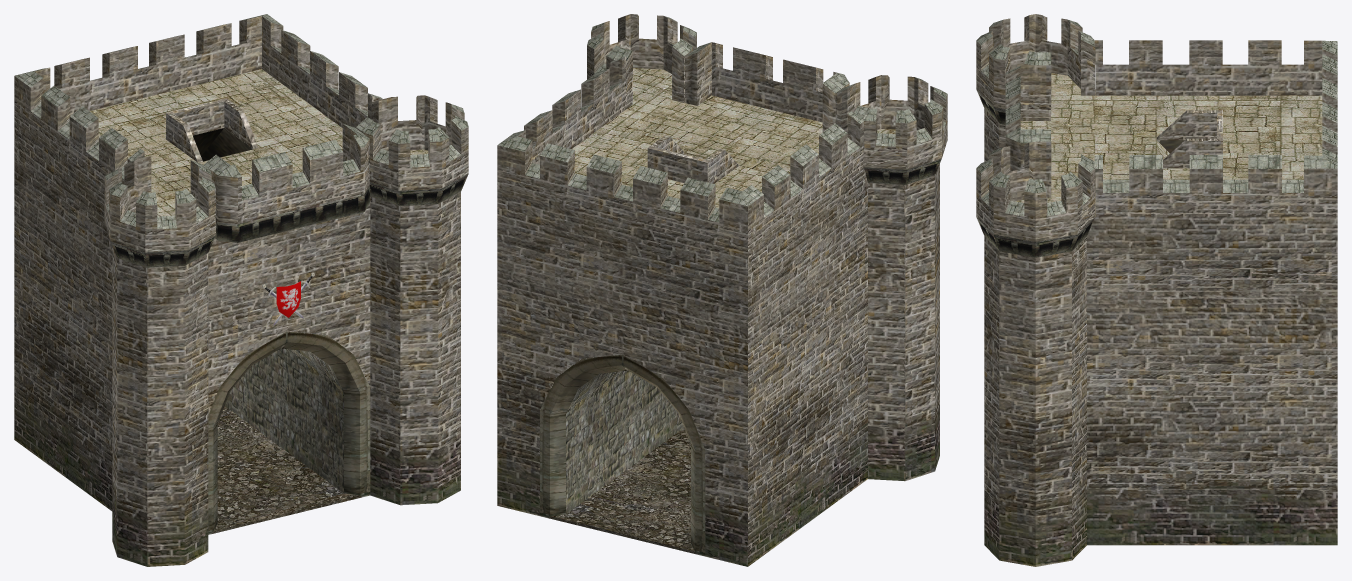
File: building_gatehouse_medium.glb
The picture shows the model from 3 angles, left to right: view 1: azimuth 30°, elevation 25°; view 2: azimuth 150°, elevation 25°; view 3: azimuth 270°, elevation 25°; orthographic projection. The views are drawn at different scales.
Parts seen in each view (by area): view 1: building_gatehouse_medium; view 2: building_gatehouse_medium; view 3: building_gatehouse_medium.
Boxes of the visible parts, x1,y1,x2,y2 form: building_gatehouse_medium: (14, 14, 468, 566); building_gatehouse_medium: (497, 14, 947, 566); building_gatehouse_medium: (976, 14, 1337, 566).
Bounding box in the file's own units: 14.29 × 14.4 × 12.27.
Materials: 8 (8 with a texture image).
